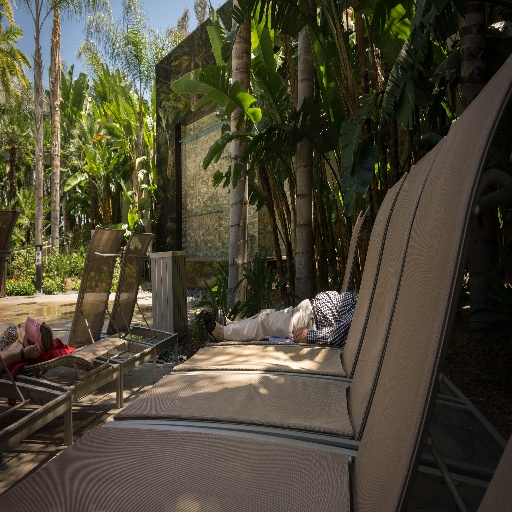hand: (23, 343, 42, 364), (294, 324, 307, 341)
